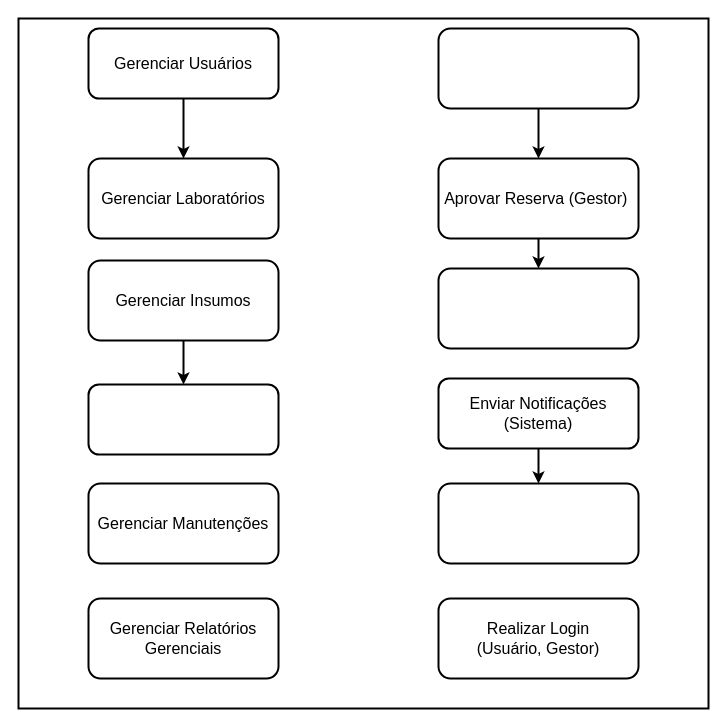
The diagram is 726 pixels wide and 726 high, and some of its shapes have lost their labels. The centre of each missing label's shape, as x and y in pixels:
"Gerenciar Equipamentos" goes at pixel 183 419.
"Solicitar Reserva (Usuário)" goes at pixel 538 68.
"Verificar Disponibilidade (<<include>>)" goes at pixel 538 308.
"Verificar Estoque Mínimo (<<include>>)" goes at pixel 538 523.
